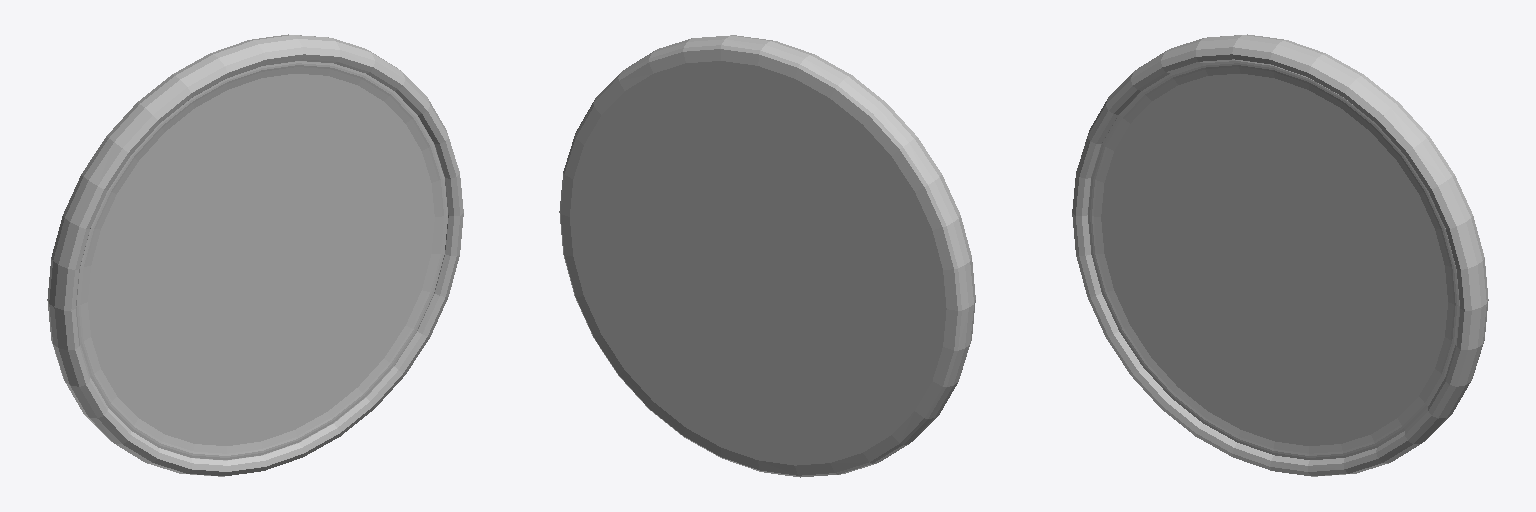
Rendered from PIZZA.obj.
3 renders of one model, left to right at view 1: azimuth 30°, elevation 25°; view 2: azimuth 150°, elevation 25°; view 3: azimuth 330°, elevation 25°, orthographic.
Visible parts, largest first — view 1: SweetRoll:6; view 2: SweetRoll:6; view 3: SweetRoll:6.
Boxes of the visible parts, <box> form: SweetRoll:6: <box>47,34,463,476</box>; SweetRoll:6: <box>559,35,975,477</box>; SweetRoll:6: <box>1072,34,1488,476</box>.
Size of the model in its own units: 61.95 by 61.95 by 5.19.